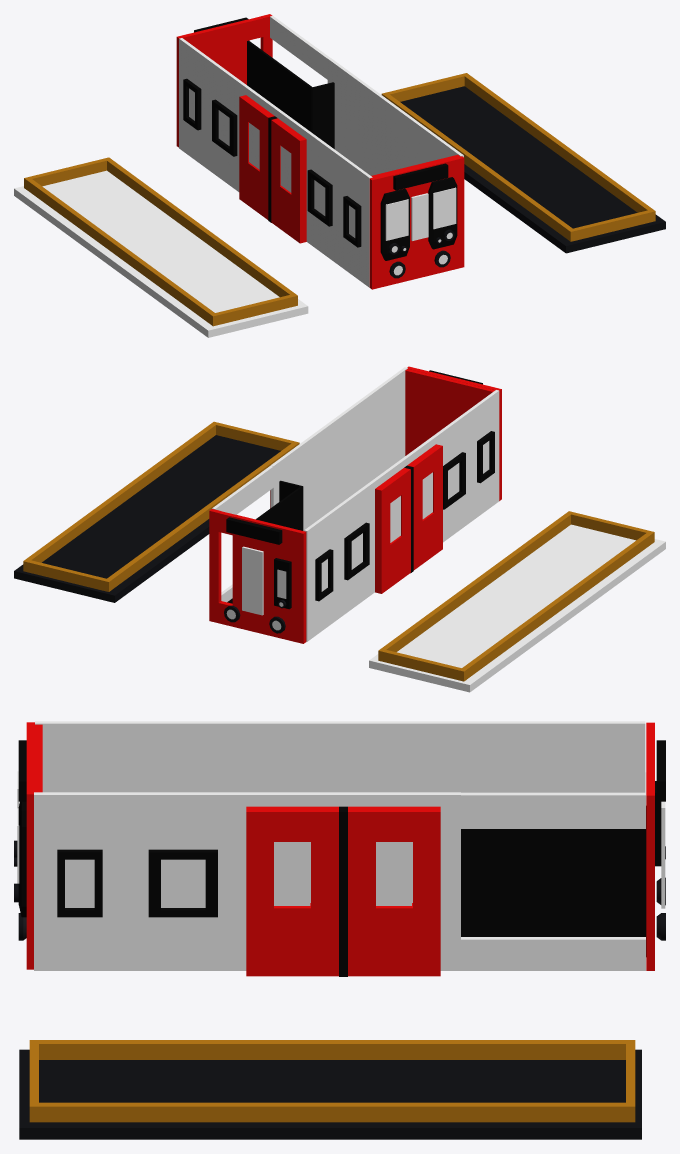
File: talking-train.obj
3 renders of one model, top to bottom at view 1: azimuth 30°, elevation 25°; view 2: azimuth 150°, elevation 25°; view 3: azimuth 270°, elevation 25°, orthographic. The views are drawn at different scales.
Parts seen in each view (by area): view 1: mergedBlocks(Clone)_Mesh_0; view 2: mergedBlocks(Clone)_Mesh_0; view 3: mergedBlocks(Clone)_Mesh_0.
Part boxes in pixels (bbox=[...]): mergedBlocks(Clone)_Mesh_0: bbox=[14, 14, 665, 337]; mergedBlocks(Clone)_Mesh_0: bbox=[14, 366, 665, 692]; mergedBlocks(Clone)_Mesh_0: bbox=[14, 721, 665, 1139].
Bounding box in the file's own units: 9.1 × 2.27 × 7.05.
